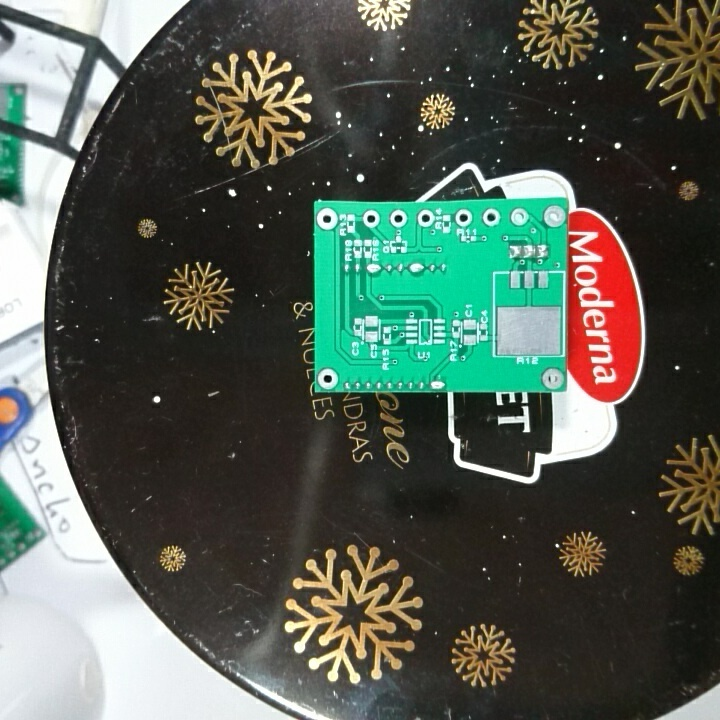F: (539, 367, 565, 391), (542, 203, 566, 228), (316, 206, 339, 232), (317, 366, 340, 391), (479, 206, 502, 229), (509, 205, 529, 228), (454, 207, 474, 229), (360, 209, 382, 229), (388, 209, 408, 229), (416, 208, 434, 229)
P: (407, 260, 427, 278), (364, 261, 383, 276), (428, 379, 447, 392)
